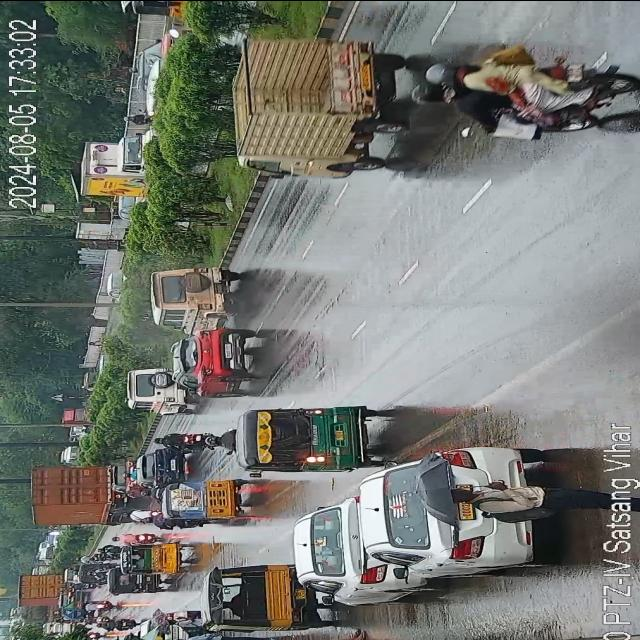2-wheelers: (405, 57, 633, 131), (159, 432, 207, 456), (96, 616, 140, 632), (78, 602, 114, 610), (114, 534, 162, 540)
auto: (232, 399, 386, 477), (202, 560, 308, 630), (152, 262, 245, 324), (164, 475, 252, 525), (121, 544, 188, 575), (204, 476, 248, 520), (106, 566, 164, 592)
car: (365, 447, 529, 590), (294, 502, 403, 604), (173, 326, 257, 396), (126, 364, 188, 415), (134, 447, 192, 485)
pedestrian: (422, 478, 600, 518), (166, 633, 260, 640)
truck: (231, 40, 404, 176), (29, 456, 123, 524), (17, 572, 62, 624)
